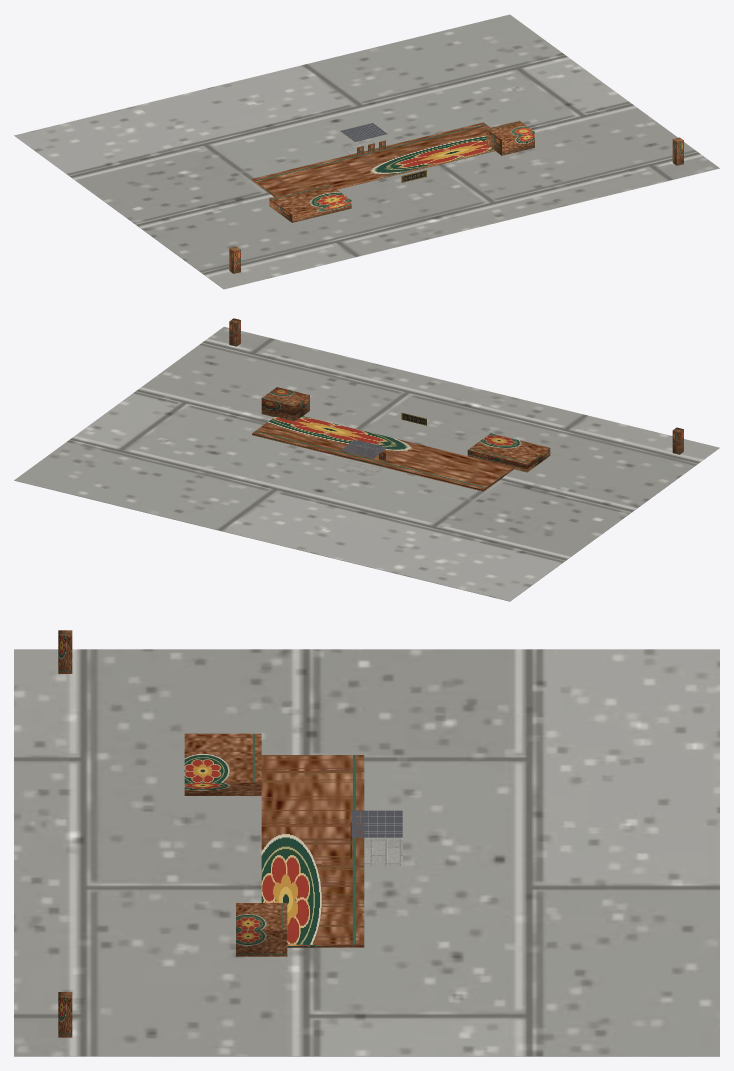
3 views of the same model, one above another, from view 1: azimuth 30°, elevation 25°; view 2: azimuth 150°, elevation 25°; view 3: azimuth 270°, elevation 25° (orthographic). The views are drawn at different scales.
Parts seen in each view (by area): view 1: 11710_01_05505_026_01_L2__base, 11710_01_05505_026_02_L2__body, 11710_01_05505_026_06_L2__green, 11710_01_05505_026_03_L2__roof; view 2: 11710_01_05505_026_01_L2__base, 11710_01_05505_026_02_L2__body, 11710_01_05505_026_06_L2__green, 11710_01_05505_026_03_L2__roof; view 3: 11710_01_05505_026_01_L2__base, 11710_01_05505_026_02_L2__body, 11710_01_05505_026_03_L2__roof, 11710_01_05505_026_06_L2__green.
Part boxes in pixels (left/top/right/bottom): 11710_01_05505_026_01_L2__base: left=14, top=14, right=719, bottom=289; 11710_01_05505_026_02_L2__body: left=252, top=120, right=534, bottom=222; 11710_01_05505_026_06_L2__green: left=229, top=137, right=683, bottom=273; 11710_01_05505_026_03_L2__roof: left=340, top=123, right=387, bottom=141; 11710_01_05505_026_01_L2__base: left=14, top=326, right=719, bottom=601; 11710_01_05505_026_02_L2__body: left=252, top=387, right=550, bottom=491; 11710_01_05505_026_06_L2__green: left=229, top=318, right=683, bottom=454; 11710_01_05505_026_03_L2__roof: left=340, top=439, right=387, bottom=458; 11710_01_05505_026_01_L2__base: left=14, top=649, right=719, bottom=1056; 11710_01_05505_026_02_L2__body: left=184, top=733, right=364, bottom=956; 11710_01_05505_026_03_L2__roof: left=351, top=810, right=402, bottom=837; 11710_01_05505_026_06_L2__green: left=58, top=630, right=72, bottom=1037.
Size of the model in its own units: 150 by 6.9 by 110.
Materials: 5 (5 with a texture image).
